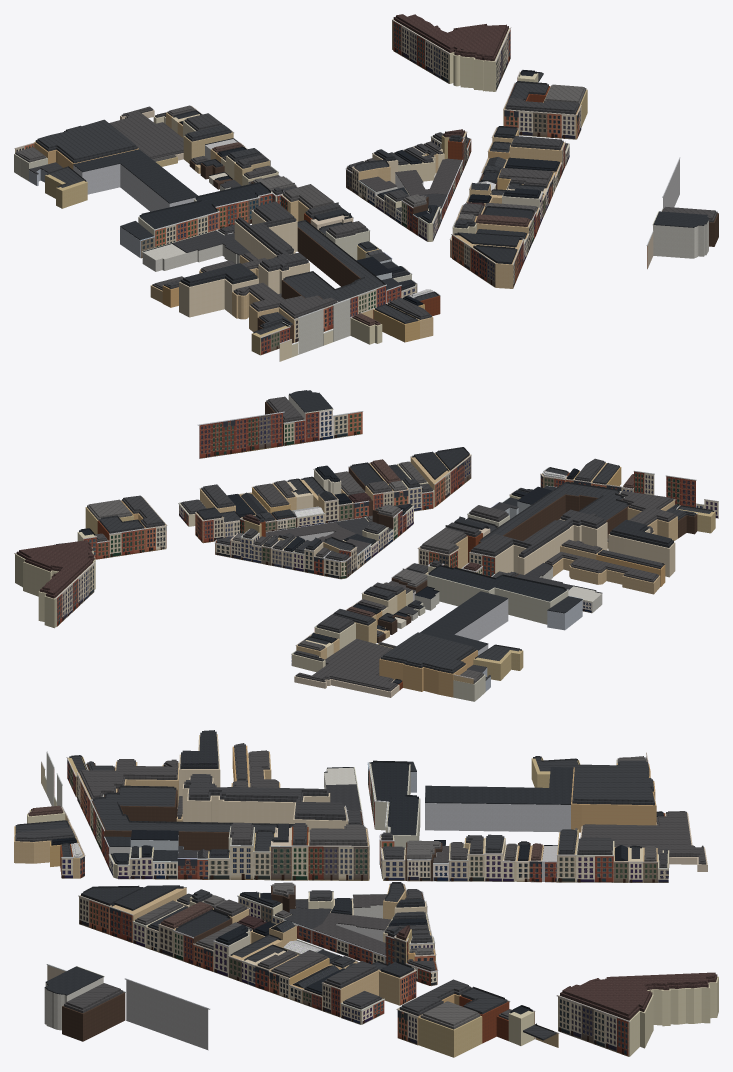
The picture shows the model from 3 angles, top to bottom: view 1: azimuth 30°, elevation 25°; view 2: azimuth 150°, elevation 25°; view 3: azimuth 270°, elevation 25°; orthographic projection. The views are drawn at different scales.
Parts seen in each view (by area): view 1: bldg_1134430182_roof, bldg_453582925_roof_b, bldg_497715852_roof_b, bldg_497911460_roof_b, bldg_1134430182, bldg_497911462, bldg_680655773_roof_b, bldg_497911464, bldg_497715852_facade0, bldg_497728465, bldg_1134430183_roof_b, bldg_497715860_facade1 (+29 smaller); view 2: bldg_7304683_facade0, bldg_680655773_roof_b, bldg_1134430183, bldg_497911462, bldg_453582925_roof_b, bldg_497715852_roof_b, bldg_1134430182_roof, bldg_453582925, bldg_497911460_roof_b, bldg_497911460, bldg_497715852, bldg_1134430183_roof_b (+28 smaller); view 3: bldg_1134430182, bldg_7304683_facade0, bldg_497715852, bldg_497911462, bldg_1134430182_roof, bldg_497715852_roof_b, bldg_453582925_roof_b, bldg_680655773_roof_b, bldg_497911460_roof_b, bldg_497715852_facade1, bldg_497911462_roof_b, bldg_497907602_facade0 (+50 smaller).
Part boxes in pixels (x1,y1,x2,y2): bldg_1134430182_roof: [73, 149, 197, 203]; bldg_453582925_roof_b: [37, 119, 135, 160]; bldg_497715852_roof_b: [396, 14, 506, 57]; bldg_497911460_roof_b: [285, 220, 382, 298]; bldg_1134430182: [73, 164, 195, 211]; bldg_497911462: [234, 211, 309, 293]; bldg_680655773_roof_b: [109, 106, 183, 157]; bldg_497911464: [179, 278, 258, 317]; bldg_497715852_facade0: [392, 19, 449, 83]; bldg_497728465: [653, 216, 708, 258]; bldg_1134430183_roof_b: [141, 182, 268, 226]; bldg_497715860_facade1: [503, 109, 577, 139]; bldg_7304683_facade0: [198, 411, 284, 458]; bldg_680655773_roof_b: [297, 639, 396, 689]; bldg_1134430183: [427, 574, 568, 624]; bldg_497911462: [470, 518, 607, 574]; bldg_453582925_roof_b: [383, 632, 474, 670]; bldg_497715852_roof_b: [19, 540, 92, 595]; bldg_1134430182_roof: [420, 591, 507, 650]; bldg_453582925: [379, 650, 477, 697]; bldg_497911460_roof_b: [482, 482, 627, 540]; bldg_497911460: [478, 492, 629, 543]; bldg_497715852: [15, 547, 95, 628]; bldg_1134430183_roof_b: [430, 565, 564, 598]; bldg_1134430182: [425, 793, 570, 832]; bldg_7304683_facade0: [124, 978, 210, 1050]; bldg_497715852: [558, 976, 718, 1056]; bldg_497911462: [182, 777, 347, 831]; bldg_1134430182_roof: [425, 767, 573, 804]; bldg_497715852_roof_b: [562, 972, 715, 1016]; bldg_453582925_roof_b: [574, 760, 653, 801]; bldg_680655773_roof_b: [583, 811, 704, 862]; bldg_497911460_roof_b: [94, 785, 294, 829]; bldg_497715852_facade1: [556, 995, 630, 1056]; bldg_497911462_roof_b: [186, 774, 344, 816]; bldg_497907602_facade0: [307, 845, 369, 880].
Size of the model in its own units: 285 by 19.72 by 290.
118 materials, 52 textured.
